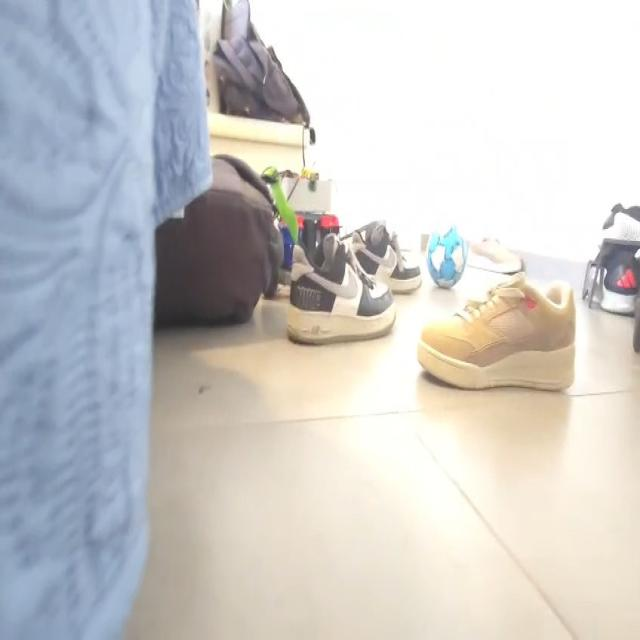Robot: (276, 168, 342, 270)
